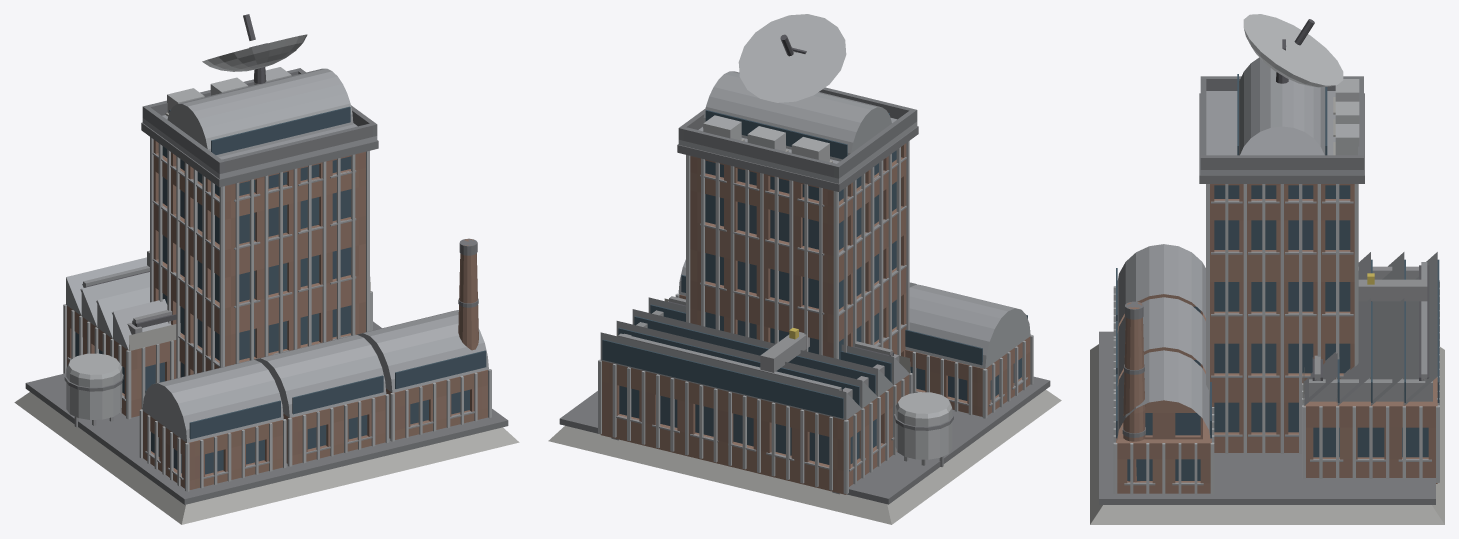
File: chinese_bureau.glb
3 views of the same model, side by side, from view 1: azimuth 30°, elevation 25°; view 2: azimuth 150°, elevation 25°; view 3: azimuth 270°, elevation 25° (orthographic). The views are drawn at different scales.
Visible parts, largest first — view 1: tower_wall, tower_ribs, plinth, plinth_cap, tower_glass, tower_vault_vault, lab0_vault_vault, stand_saw, lab1_vault_vault, lab2_vault_vault, tower_parapet, lab0_wall (+22 smaller); view 2: tower_wall, tower_ribs, stand_wall, plinth, stand_saw_glass, stand_ribs, stand_saw, radar, tower_glass, tower_vault_vault, lab0_vault_vault, plinth_cap (+13 smaller); view 3: tower_wall, plinth_cap, tower_glass, plinth, tower_ribs, stand_saw, stand_wall, stand_gantry_gantry, tower_deck, lab2_wall, tower_vault_vault, radar (+13 smaller).
Boxes of the visible parts, x1,y1,x2,y2 form: tower_wall: (153,139,365,375); tower_ribs: (150,137,369,378); plinth: (14,392,519,524); plinth_cap: (25,321,508,504); tower_glass: (162,146,350,377); tower_vault_vault: (167,68,353,157); lab0_vault_vault: (142,360,283,442); stand_saw: (66,257,370,350); lab1_vault_vault: (254,335,386,417); lab2_vault_vault: (357,310,488,392); tower_parapet: (142,68,377,173); lab0_wall: (143,411,282,489); tower_wall: (690,143,906,357); tower_ribs: (686,141,909,359); stand_wall: (600,361,909,494); plinth: (548,390,1061,524); stand_saw_glass: (602,304,891,418); stand_ribs: (598,359,912,494); stand_saw: (600,297,910,420); radar: (738,14,846,102); tower_glass: (705,150,896,359); tower_vault_vault: (703,71,891,161); lab0_vault_vault: (905,284,1030,368); plinth_cap: (559,376,1050,504); tower_wall: (1210,184,1354,452); plinth_cap: (1099,331,1435,504); tower_glass: (1214,185,1350,432); plinth: (1090,344,1444,524); tower_ribs: (1206,184,1358,453); stand_saw: (1303,252,1437,405); stand_wall: (1304,377,1437,483); stand_gantry_gantry: (1309,262,1432,401); tower_deck: (1200,91,1363,175); lab2_wall: (1116,400,1211,493); tower_vault_vault: (1239,57,1325,155); radar: (1243,14,1343,87).
Size of the model in its own units: 28.12 by 31.18 by 24.
